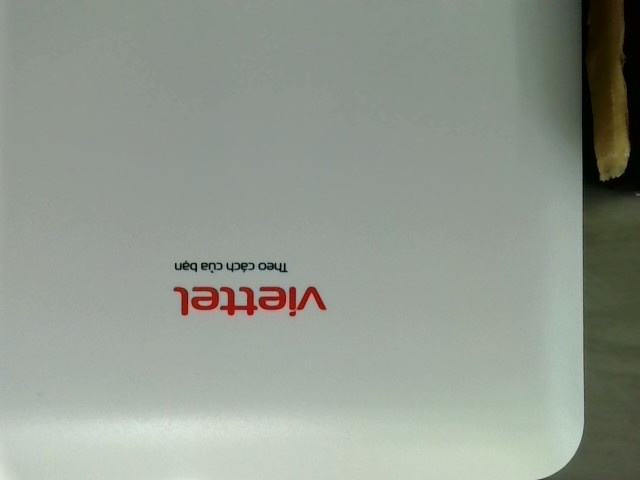AY_Viettel: (170, 260, 332, 325)
